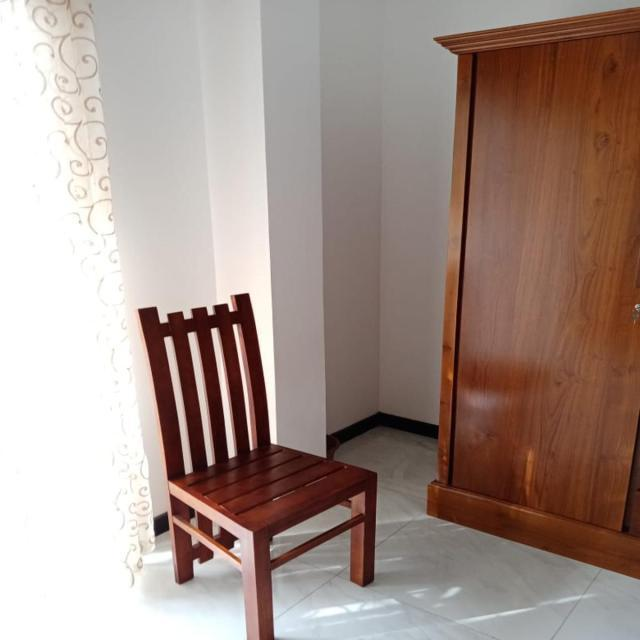chair: (127, 290, 378, 640)
